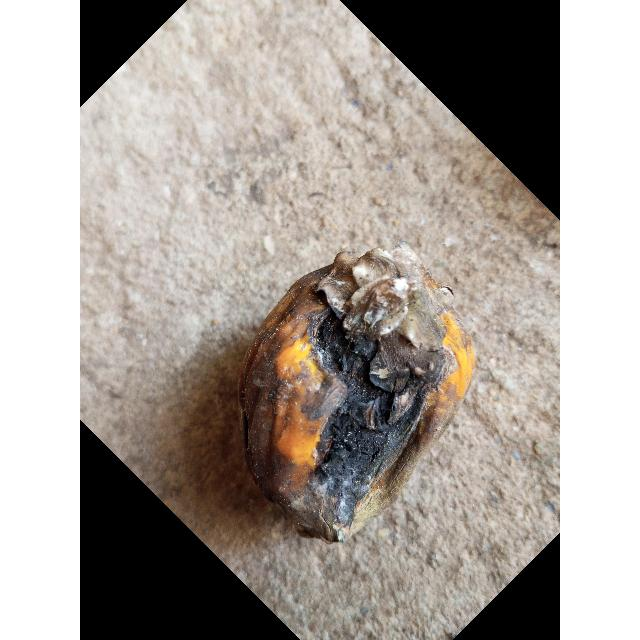damaged: (237, 242, 477, 545)
